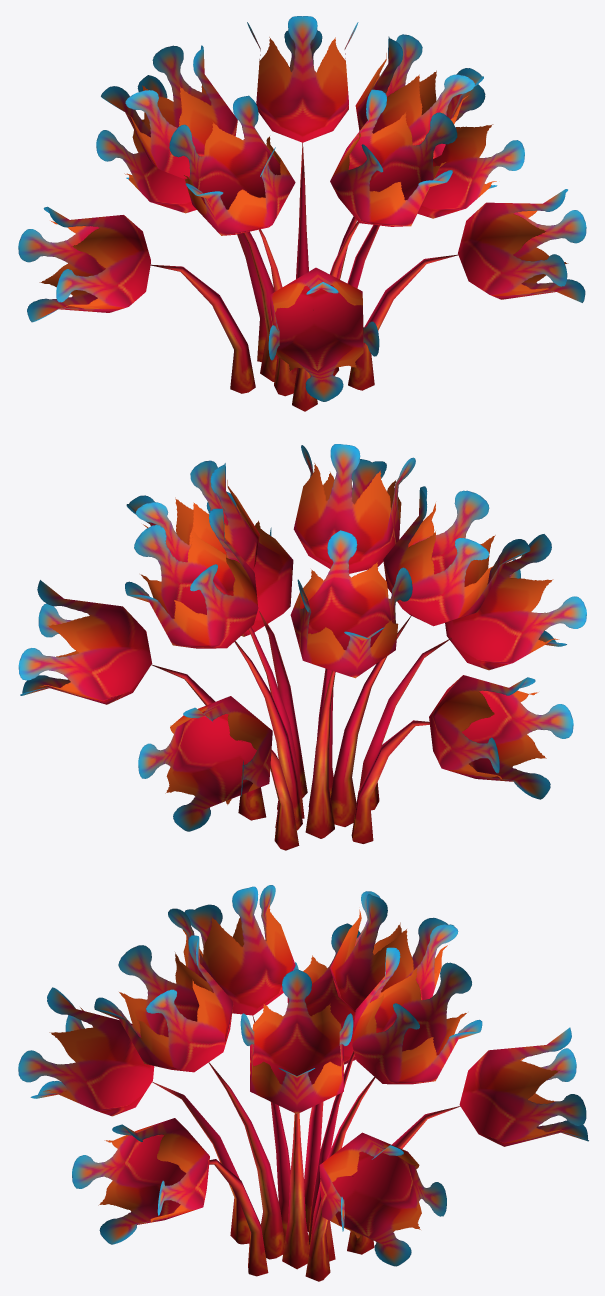
File: RedFlower_03_Group1.FBX
3 renders of one model, top to bottom at view 1: azimuth 30°, elevation 25°; view 2: azimuth 150°, elevation 25°; view 3: azimuth 270°, elevation 25°, orthographic. The views are drawn at different scales.
Visible parts, largest first — view 1: RedFlower_03_Group1; view 2: RedFlower_03_Group1; view 3: RedFlower_03_Group1.
Part boxes in pixels (bbox=[...]): RedFlower_03_Group1: bbox=[18, 16, 586, 411]; RedFlower_03_Group1: bbox=[18, 444, 586, 850]; RedFlower_03_Group1: bbox=[18, 885, 588, 1281].
Bounding box in the file's own units: 176 × 111 × 174.
